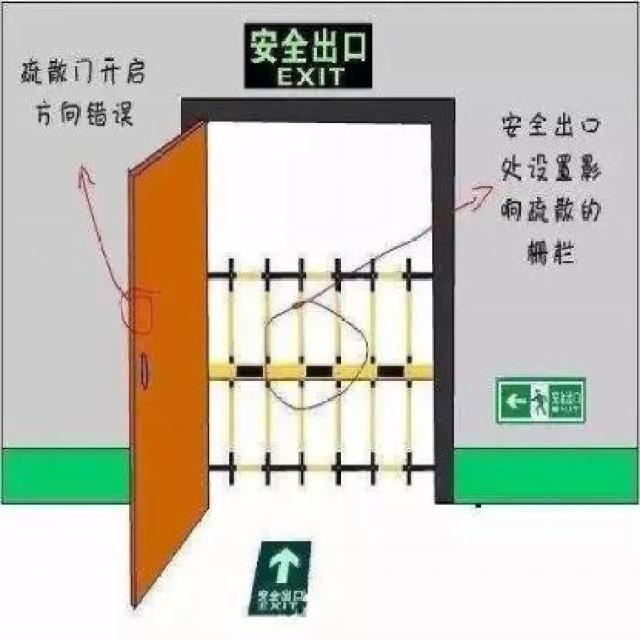exit_sign: (245, 20, 380, 86), (494, 374, 589, 432)
